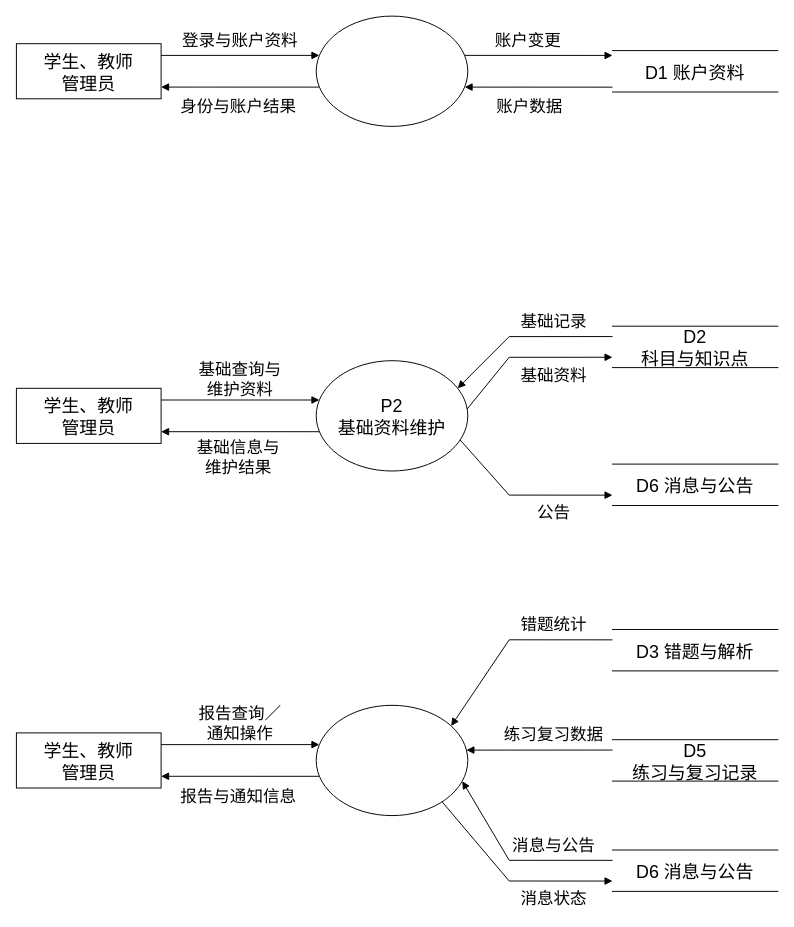
This 794x927 diagram has some shape labels left out. Here are the shapes that lost their labels. From the top down, the centre of each, then its label:
At pixel 391 70: "P1 认证与账户管理".
At pixel 391 760: "P5 学情与通知处理".
